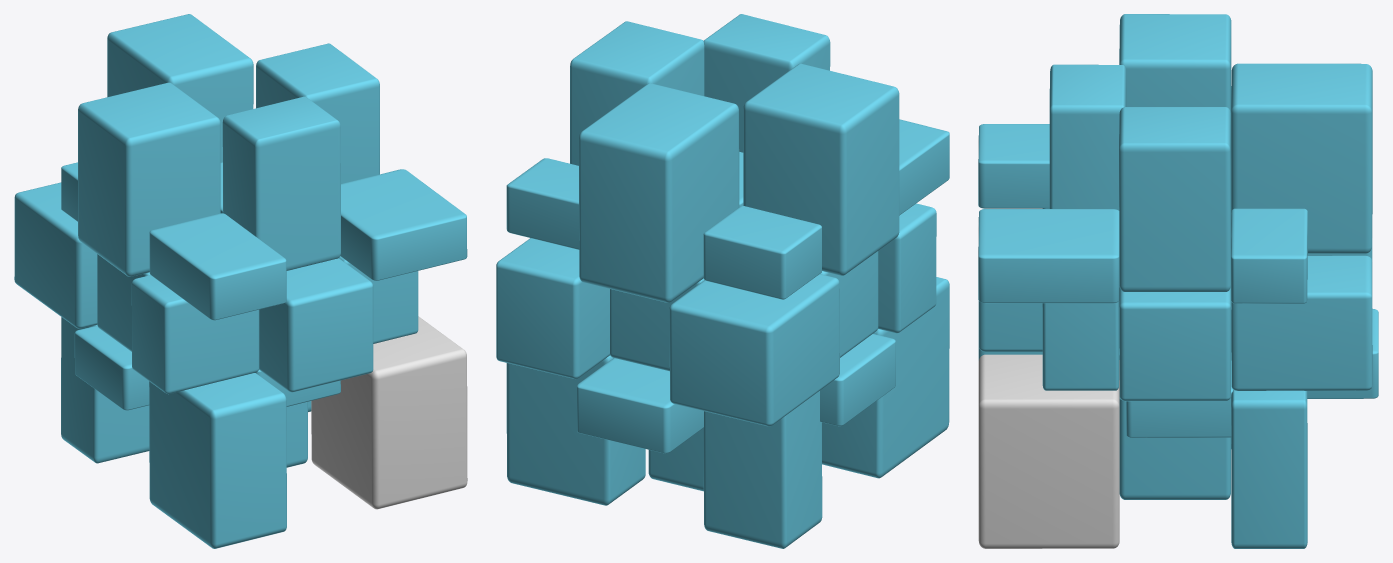
The model's file is MirrorCubeMatTest.gltf.
3 renders of one model, left to right at view 1: azimuth 30°, elevation 25°; view 2: azimuth 150°, elevation 25°; view 3: azimuth 270°, elevation 25°, orthographic. The views are drawn at different scales.
Visible parts, largest first — view 1: Cube, Cube.003, Cube.002, Cube.007, Cube.016, Cube.018, Cube.020, Cube.011, Cube.001, Cube.005, Cube.017, Cube.008 (+6 smaller); view 2: Cube.001, Cube.003, Cube.017, Cube.008, Cube.015, Cube.006, Cube.002, Cube.005, Cube.026, Cube.019, Cube.007, Cube.011 (+6 smaller); view 3: Cube, Cube.001, Cube.005, Cube.015, Cube.018, Cube.014, Cube.006, Cube.007, Cube.003, Cube.024, Cube.004, Cube.009 (+4 smaller).
Part boxes in pixels (x1,y1,x2,y2): Cube: (311, 316, 467, 509); Cube.003: (78, 82, 220, 276); Cube.002: (149, 373, 286, 548); Cube.007: (222, 96, 340, 270); Cube.016: (259, 258, 373, 392); Cube.018: (340, 169, 467, 280); Cube.020: (149, 213, 286, 320); Cube.011: (131, 275, 259, 394); Cube.001: (107, 14, 253, 162); Cube.005: (256, 43, 379, 183); Cube.017: (14, 182, 97, 328); Cube.008: (61, 317, 149, 463); Cube.001: (579, 83, 739, 302); Cube.003: (743, 63, 899, 275); Cube.017: (669, 274, 839, 426); Cube.008: (703, 391, 822, 548); Cube.015: (496, 238, 609, 378); Cube.006: (506, 355, 645, 505); Cube.002: (822, 277, 949, 478); Cube.005: (570, 21, 704, 165); Cube.026: (703, 206, 821, 299); Cube.019: (577, 358, 703, 453); Cube.007: (703, 14, 830, 152); Cube.011: (878, 203, 936, 333); Cube: (978, 354, 1119, 548); Cube.001: (1231, 63, 1372, 253); Cube.005: (1119, 107, 1231, 291); Cube.015: (1231, 255, 1372, 390); Cube.018: (978, 209, 1119, 303); Cube.014: (1119, 286, 1230, 401); Cube.006: (1231, 389, 1307, 548); Cube.007: (1049, 64, 1126, 210); Cube.003: (1119, 14, 1231, 112); Cube.024: (1231, 208, 1307, 303); Cube.004: (1119, 400, 1230, 499); Cube.009: (1042, 301, 1118, 390).
Size of the model in its own units: 5.84 by 7.42 by 6.82.
